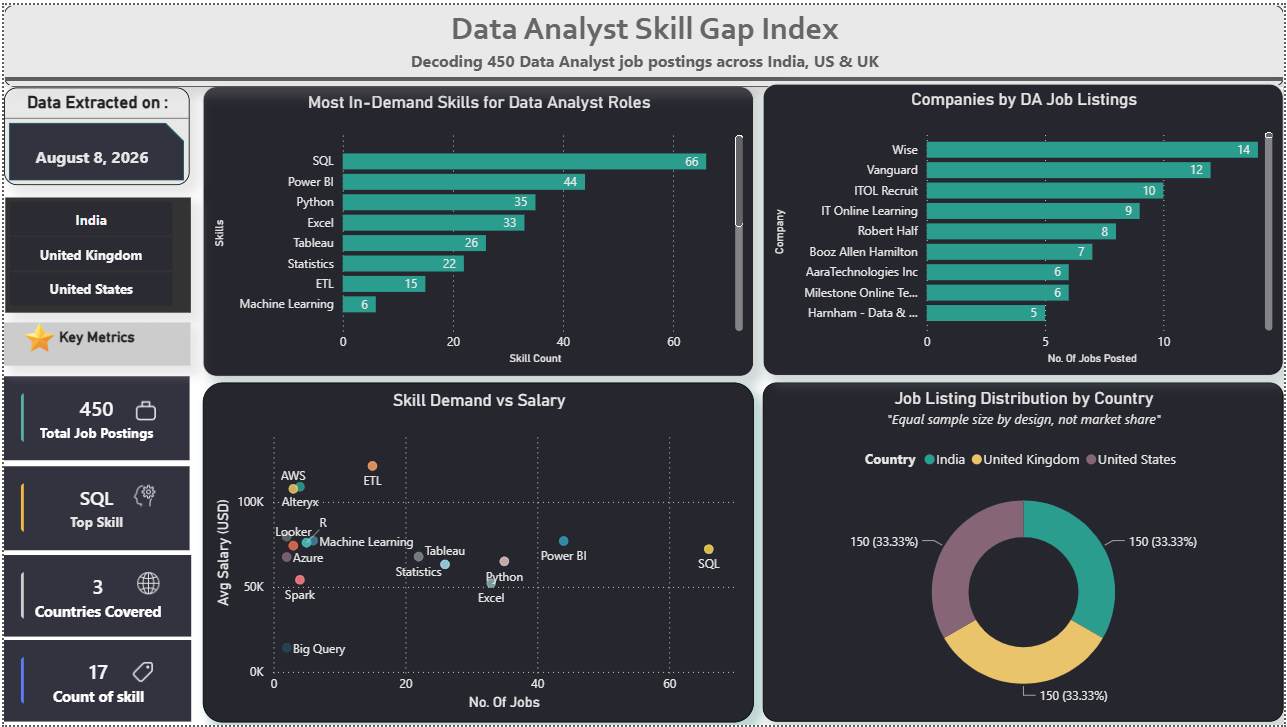

Layout of this report page (visuals, bound fields, positions):
{"tool":"powerbi","page":{"name":"Overview","canvas":[1280,720],"ordinal":0},"visuals":[{"type":"clusteredBarChart","title":"Most In-Demand Skills for Data Analyst Roles","fields":{"Category":["jobs_skills.skill"],"Y":["CountNonNull(jobs_skills.skill)"]},"box":[198.8,81.2,551.2,290],"z":0},{"type":"scatterChart","title":"Skill Demand vs Salary","fields":{"Series":["jobs_skills.skill"],"X":["jobs_skills.job_id"],"Y":["Avg(jobs.avg_salary_usd)"]},"box":[198.6,377.1,551.4,340],"z":1000},{"type":"group","id":"g1","title":"Group 1","box":[0,370.9,185.5,83.6],"z":2000},{"type":"cardVisual","fields":{"Data":["CountNonNull(jobs.job_id)"]},"box":[0,370.9,185.5,83.6],"z":2000,"group":"g1"},{"type":"group","id":"g2","title":"Group 2","box":[0,460.9,185.5,83.6],"z":3000},{"type":"cardVisual","fields":{"Data":["jobs_skills.Top Skill"]},"box":[0,460.9,185.5,83.6],"z":3000,"group":"g2"},{"type":"cardVisual","fields":{"Data":["Count(jobs.country)"]},"box":[0,550,187,81.8],"z":4000,"group":"g3"},{"type":"group","id":"g3","title":"Group 3","box":[0,550,186.7,82.2],"z":4000},{"type":"group","id":"g4","title":"Group 4","box":[0,635.6,187.1,81.4],"z":5000},{"type":"cardVisual","fields":{"Data":["Count(jobs_skills.skill)"]},"box":[0,635.6,187.1,81.4],"z":5000,"group":"g4"},{"type":"textbox","title":"Data Analyst Skill Gap Index","box":[0,0,1280,81.2],"z":6000},{"type":"image","box":[127.3,393.7,29,23.9],"z":6000,"group":"g1"},{"type":"group","id":"g5","title":"Group 4","box":[149.9,121.4,36.8,21.6],"z":7000},{"type":"image","box":[126.9,478.5,29,23.9],"z":7000,"group":"g2"},{"type":"shape","title":"Data Extracted on : ","box":[0,82.7,185.5,97.3],"z":8000},{"type":"image","box":[129.6,566.6,29.1,23.9],"z":8000,"group":"g3"},{"type":"image","box":[149.9,121.4,36.8,21.6],"z":9000,"group":"g5"},{"type":"donutChart","title":"Job Listing Distribution by Country","fields":{"Category":["jobs.country"],"Y":["CountNonNull(jobs.job_id)"]},"box":[759,377,521,339],"z":9000},{"type":"image","box":[121.8,656,35,24.2],"z":9000,"group":"g4"},{"type":"listSlicer","fields":{"Values":["jobs.country"]},"box":[1.2,192,185.9,114.9],"z":10000},{"type":"clusteredBarChart","title":"Companies by DA Job Listings","fields":{"Category":["jobs.company"],"Y":["CountNonNull(jobs.job_id)"]},"box":[759,79,521,292],"z":11000},{"type":"textbox","box":[0,317,186,43],"z":12000},{"type":"image","box":[10.8,316.9,48.5,30],"z":13000}]}

Visuals, with their boxes in screenshot pixels (x1, y1, x2, y2), scaled from the page's 1280x720 canvas onto the 1287x727 screenshot:
"Most In-Demand Skills for Data Analyst Roles" clusteredBarChart: [x1=200, y1=82, x2=754, y2=375]
"Skill Demand vs Salary" scatterChart: [x1=200, y1=381, x2=754, y2=724]
"Group 1" group: [x1=0, y1=375, x2=187, y2=459]
cardVisual - CountNonNull(jobs.job_id): [x1=0, y1=375, x2=187, y2=459]
"Group 2" group: [x1=0, y1=465, x2=187, y2=550]
cardVisual - jobs_skills.Top Skill: [x1=0, y1=465, x2=187, y2=550]
cardVisual - Count(jobs.country): [x1=0, y1=555, x2=188, y2=638]
"Group 3" group: [x1=0, y1=555, x2=188, y2=638]
"Group 4" group: [x1=0, y1=642, x2=188, y2=724]
cardVisual - Count(jobs_skills.skill): [x1=0, y1=642, x2=188, y2=724]
"Data Analyst Skill Gap Index" textbox: [x1=0, y1=0, x2=1286, y2=82]
image: [x1=128, y1=398, x2=157, y2=422]
"Group 4" group: [x1=151, y1=123, x2=188, y2=144]
image: [x1=128, y1=483, x2=157, y2=507]
"Data Extracted on : " shape: [x1=0, y1=84, x2=187, y2=182]
image: [x1=130, y1=572, x2=160, y2=596]
image: [x1=151, y1=123, x2=188, y2=144]
"Job Listing Distribution by Country" donutChart: [x1=763, y1=381, x2=1286, y2=723]
image: [x1=122, y1=662, x2=158, y2=687]
listSlicer - jobs.country: [x1=1, y1=194, x2=188, y2=310]
"Companies by DA Job Listings" clusteredBarChart: [x1=763, y1=80, x2=1286, y2=375]
textbox: [x1=0, y1=320, x2=187, y2=364]
image: [x1=11, y1=320, x2=60, y2=350]
